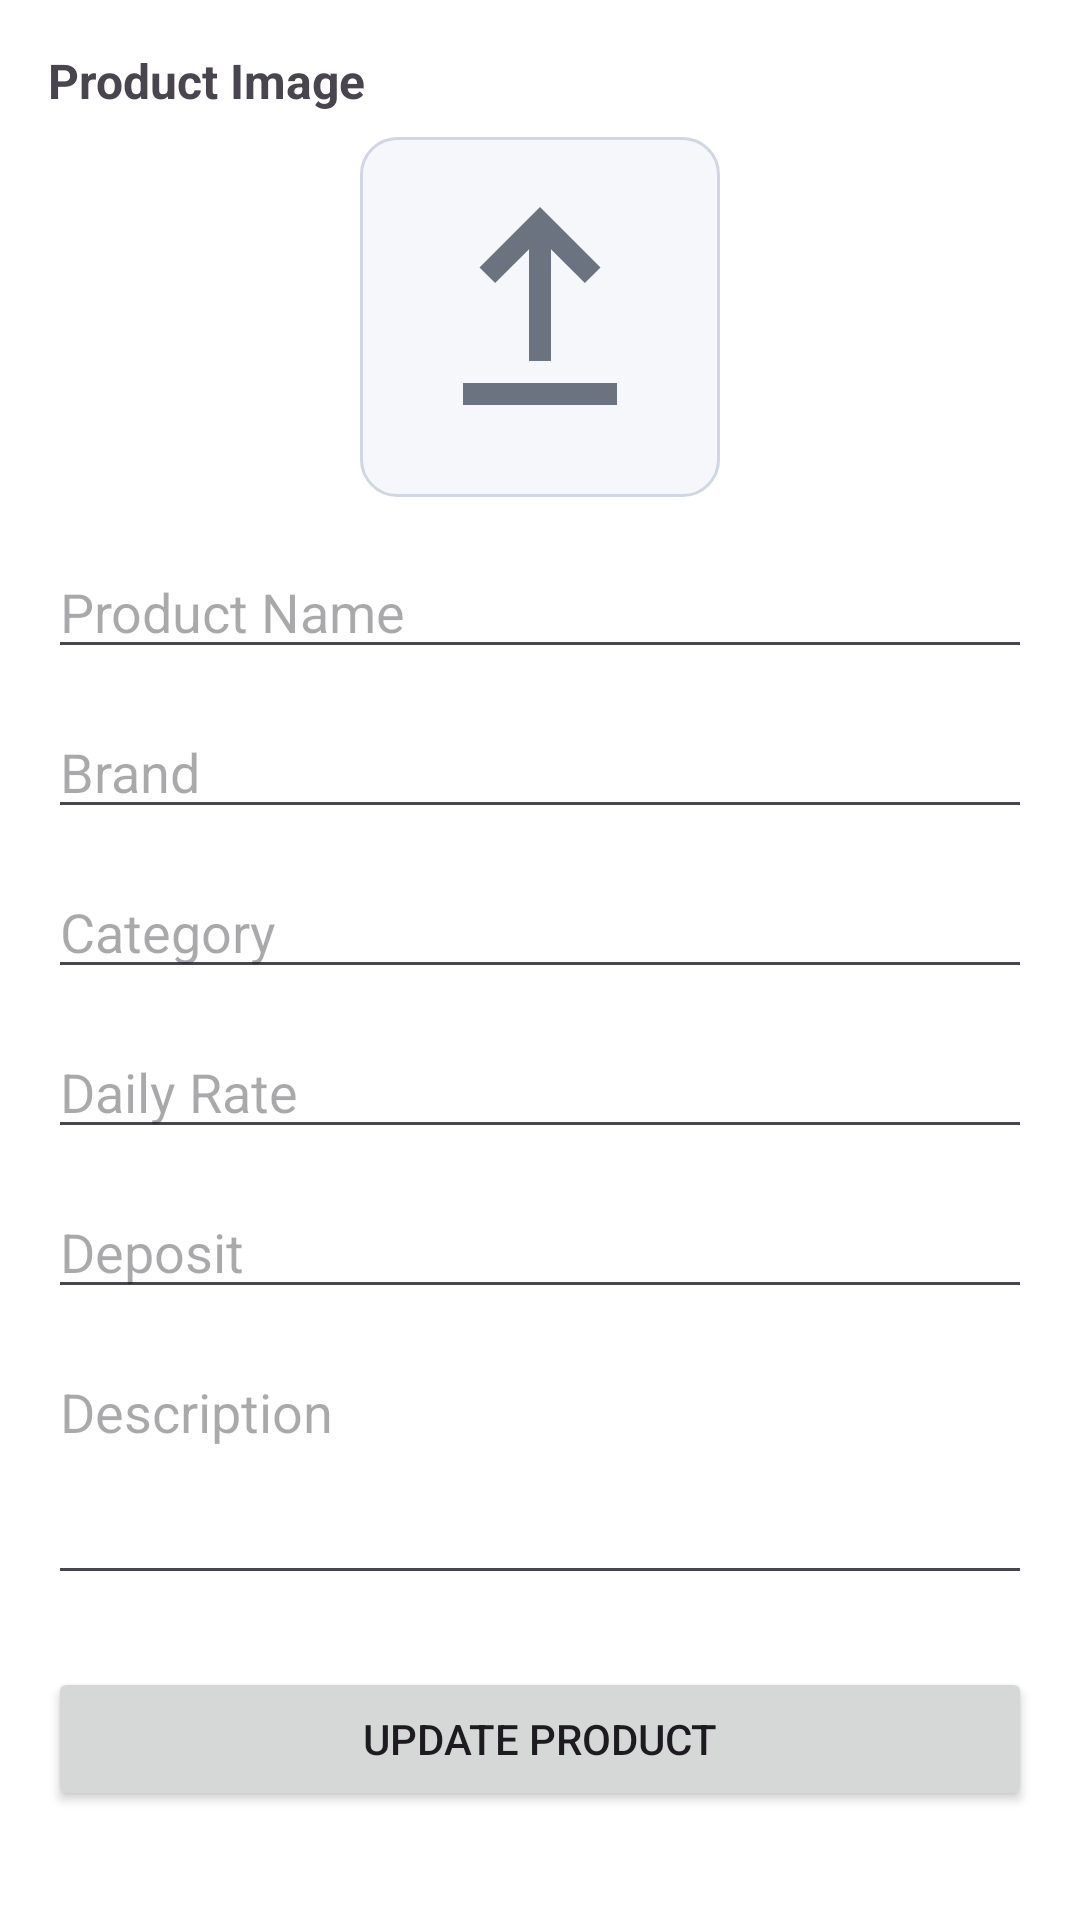

Named icons in this screenshot (1080×1920) and their bounding boxes, (x1, y1, x2, y2):
upload: (360, 137, 720, 497)
